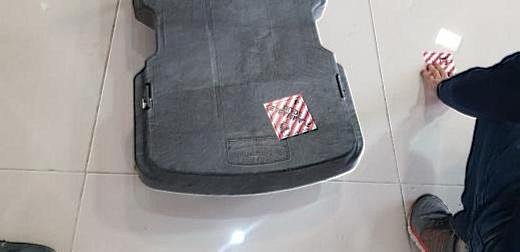flammable-solid: (262, 94, 320, 141), (422, 50, 455, 83)
